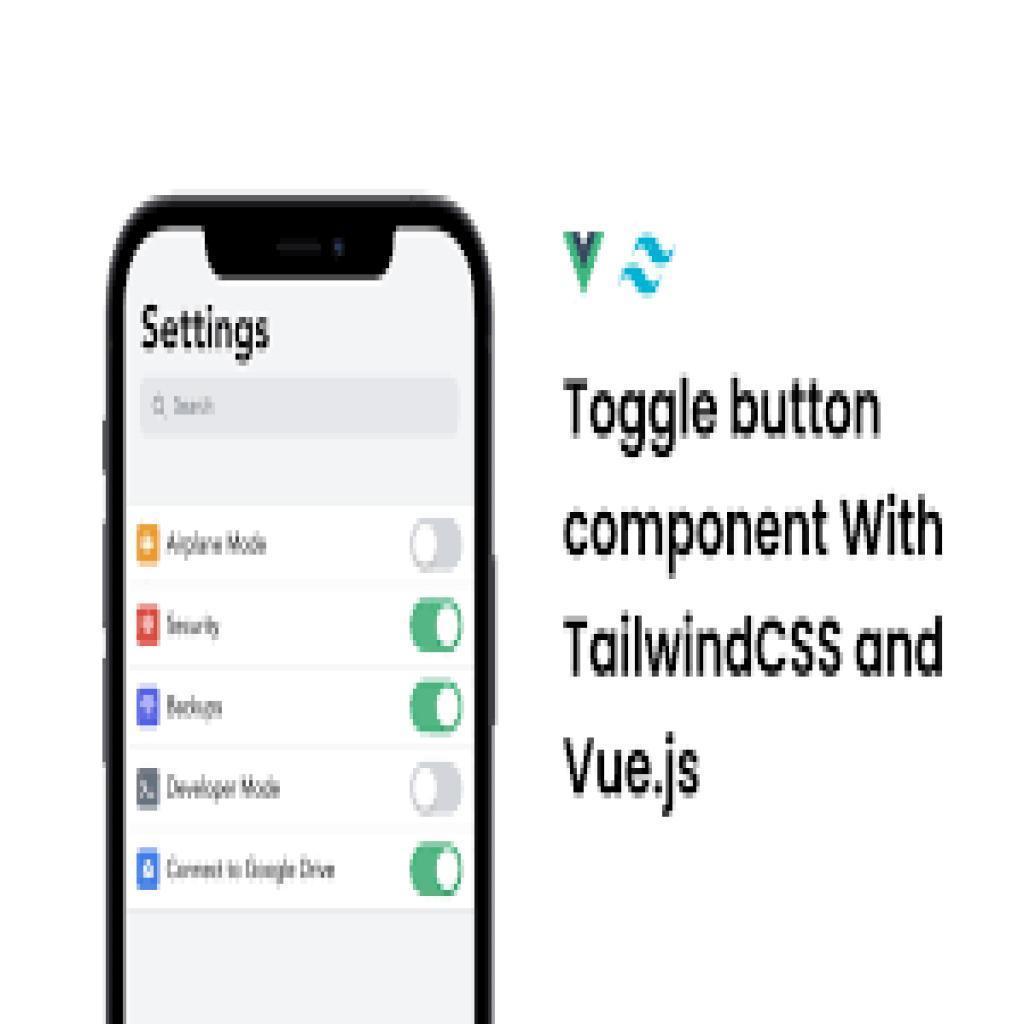switch: (411, 596, 466, 656), (412, 761, 466, 822), (412, 677, 465, 738), (410, 842, 465, 899), (413, 517, 465, 575)
